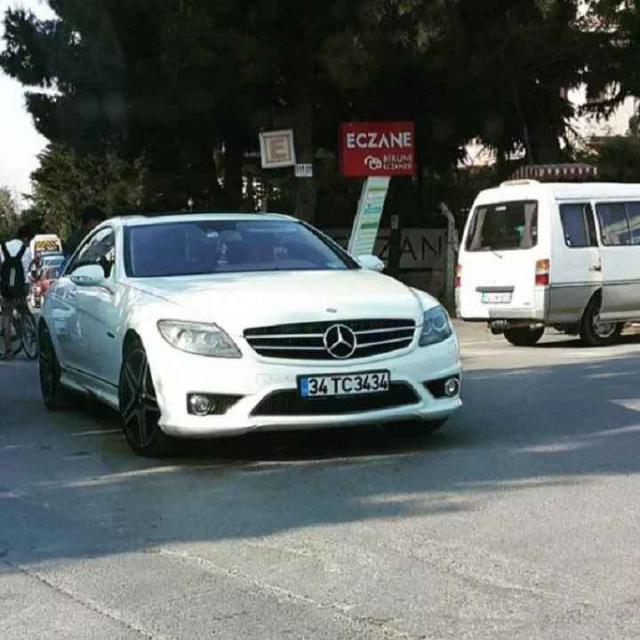plate: (295, 365, 393, 402)
